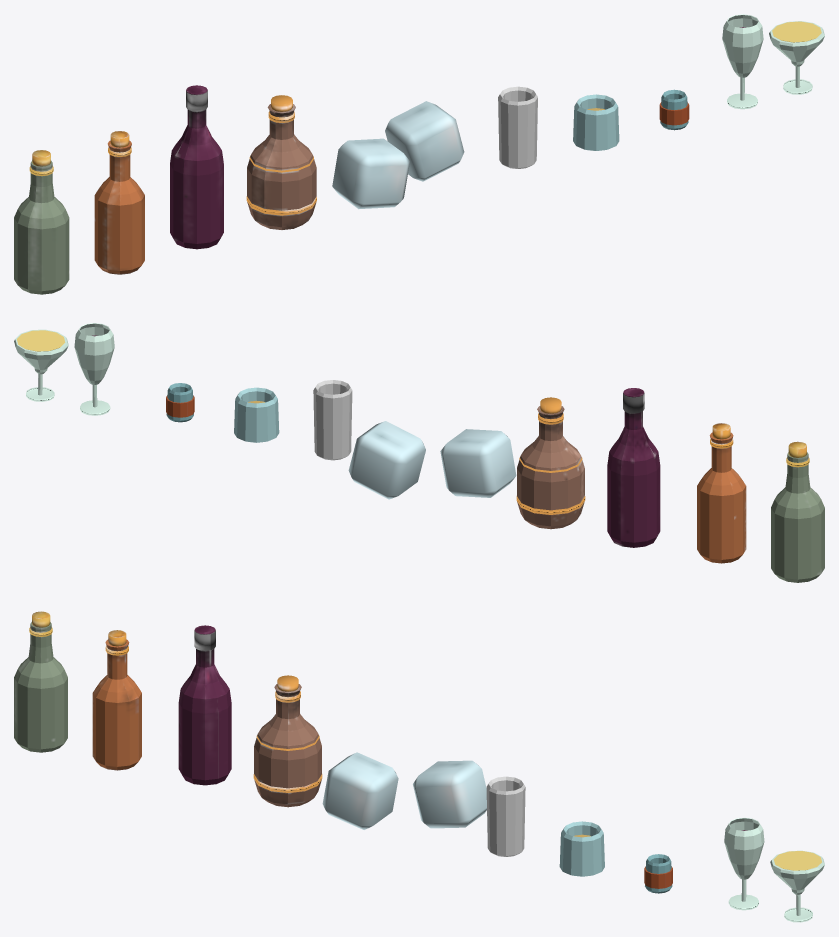
The model's file is animacion_ynnaf_licor_.glb.
The picture shows the model from 3 angles, top to bottom: view 1: azimuth 30°, elevation 25°; view 2: azimuth 150°, elevation 25°; view 3: azimuth 330°, elevation 25°; orthographic projection. The views are drawn at different scales.
Parts seen in each view (by area): view 1: Licor_final__para_textura_; view 2: Licor_final__para_textura_; view 3: Licor_final__para_textura_.
Part boxes in pixels (left/top/right/bottom): Licor_final__para_textura_: left=14, top=14, right=824, bottom=294; Licor_final__para_textura_: left=14, top=323, right=824, bottom=582; Licor_final__para_textura_: left=14, top=611, right=824, bottom=922.
Bounding box in the file's own units: 1.33 × 0.2365 × 0.1388.
14 materials, 14 textured.
